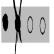correct: (2, 10, 9, 34)
no answer: (27, 12, 34, 38), (39, 15, 46, 37)
not correct: (11, 0, 24, 54)
